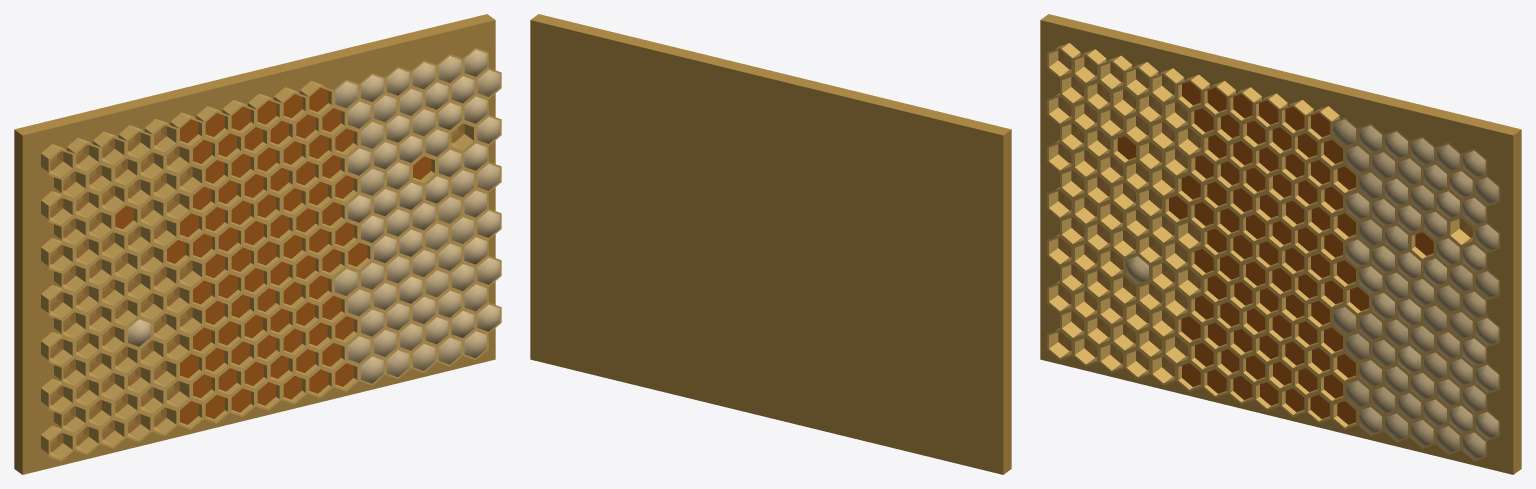
File: hive-comb-low.glb
3 views of the same model, side by side, from view 1: azimuth 30°, elevation 25°; view 2: azimuth 150°, elevation 25°; view 3: azimuth 330°, elevation 25° (orthographic).
Visible parts, largest first — view 1: hero_cells, hero_caps, board, hero_honey, cell_bottoms; view 2: board; view 3: hero_cells, board, hero_caps, hero_honey, cell_bottoms.
Boxes of the visible parts, x1=… form: hero_cells: x1=41, y1=47, x2=501, y2=461; hero_caps: x1=128, y1=49, x2=499, y2=383; board: x1=14, y1=14, x2=495, y2=474; hero_honey: x1=115, y1=88, x2=431, y2=424; cell_bottoms: x1=50, y1=123, x2=464, y2=452; board: x1=530, y1=14, x2=1011, y2=474; hero_cells: x1=1047, y1=43, x2=1500, y2=461; board: x1=1040, y1=14, x2=1521, y2=474; hero_caps: x1=1126, y1=119, x2=1498, y2=459; hero_honey: x1=1117, y1=81, x2=1433, y2=424; cell_bottoms: x1=1058, y1=50, x2=1472, y2=376.
Size of the model in its own units: 11.51 by 7.89 by 0.9036.
